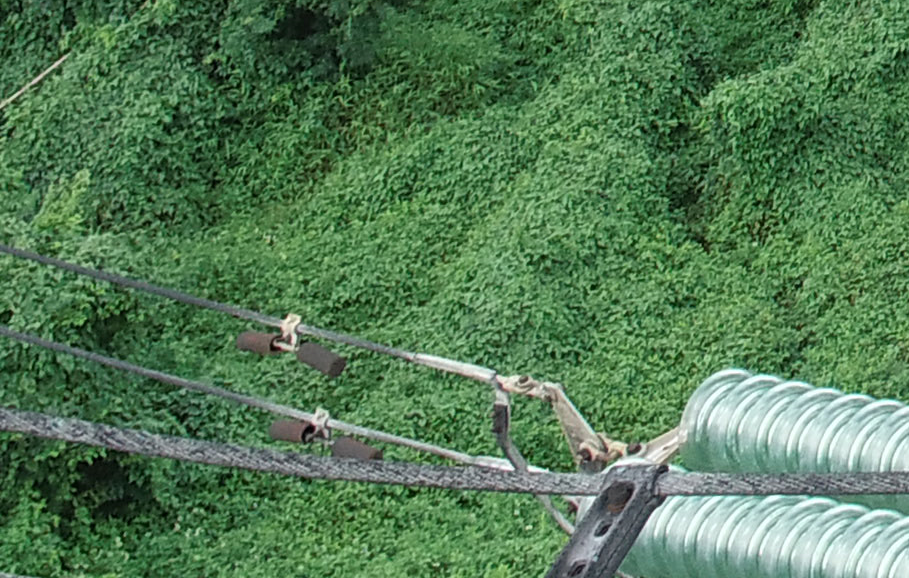damper: (232, 310, 345, 379), (269, 406, 382, 462)
